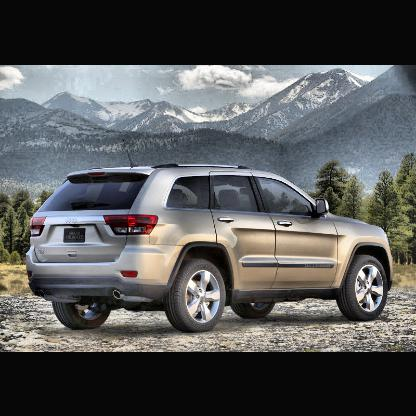Dodge Durango SUV 2012: (23, 136, 396, 334)
